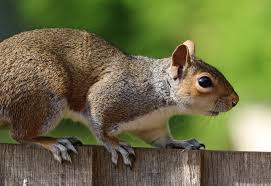Ardilla: (59, 27, 242, 152)
